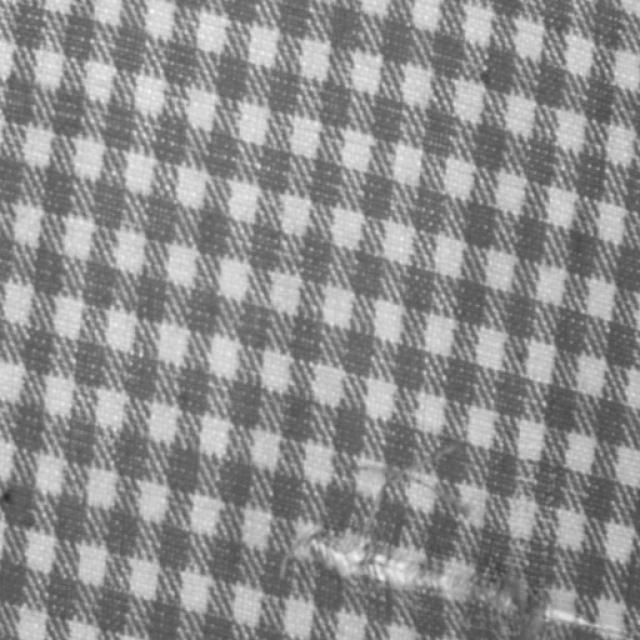Hole-Defect: (284, 528, 639, 639)
